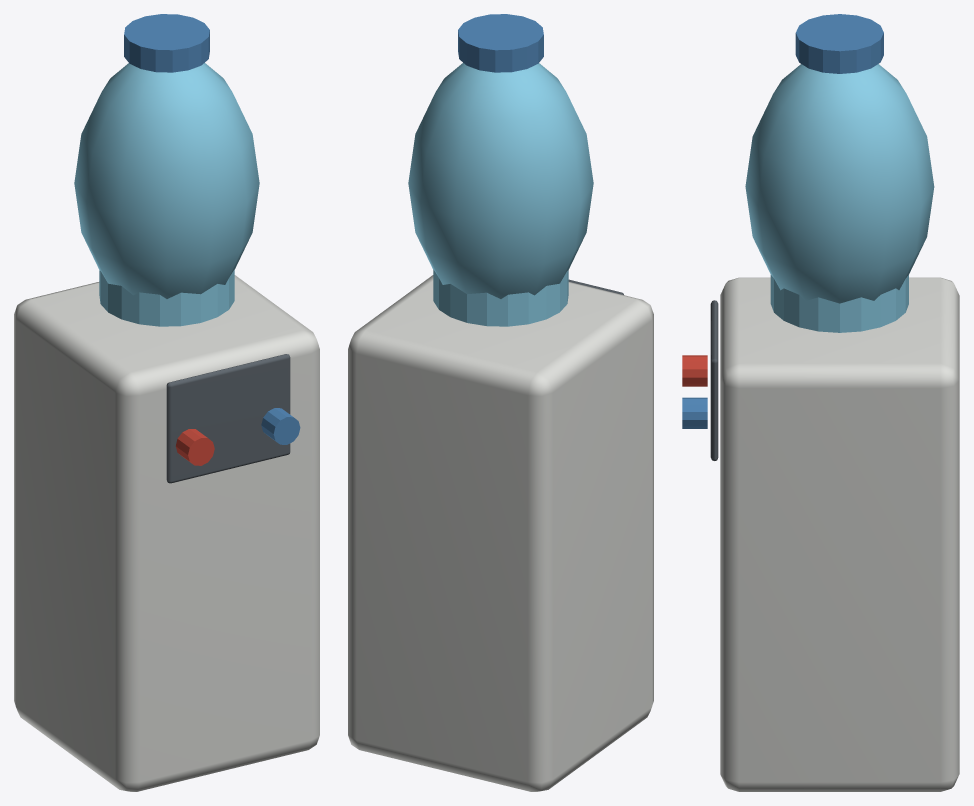
File: water_dispenser_white.glb
3 renders of one model, left to right at view 1: azimuth 30°, elevation 25°; view 2: azimuth 150°, elevation 25°; view 3: azimuth 270°, elevation 25°, orthographic.
Parts seen in each view (by area): view 1: water dispenser, water bottle, cup recess, bottle cap, bottle neck, hot cold tap, hot cold tap.001; view 2: water dispenser, water bottle, bottle cap, bottle neck; view 3: water dispenser, water bottle, bottle cap, bottle neck, cup recess, hot cold tap, hot cold tap.001.
Part boxes in pixels (x1,y1,x2,y2): water dispenser: (14, 275, 319, 791); water bottle: (74, 63, 259, 298); cup recess: (166, 354, 290, 483); bottle cap: (124, 14, 209, 72); bottle neck: (99, 269, 234, 326); hot cold tap: (175, 429, 214, 465); hot cold tap.001: (261, 408, 300, 444); water dispenser: (348, 275, 653, 791); water bottle: (408, 63, 593, 298); bottle cap: (458, 14, 543, 72); bottle neck: (433, 269, 568, 326); water dispenser: (720, 277, 959, 791); water bottle: (745, 64, 934, 303); bottle cap: (795, 14, 883, 73); bottle neck: (770, 275, 908, 332); cup recess: (710, 300, 718, 460); hot cold tap: (682, 355, 707, 386); hot cold tap.001: (682, 397, 707, 428).
Size of the model in its own units: 0.38 by 1.25 by 0.44.
